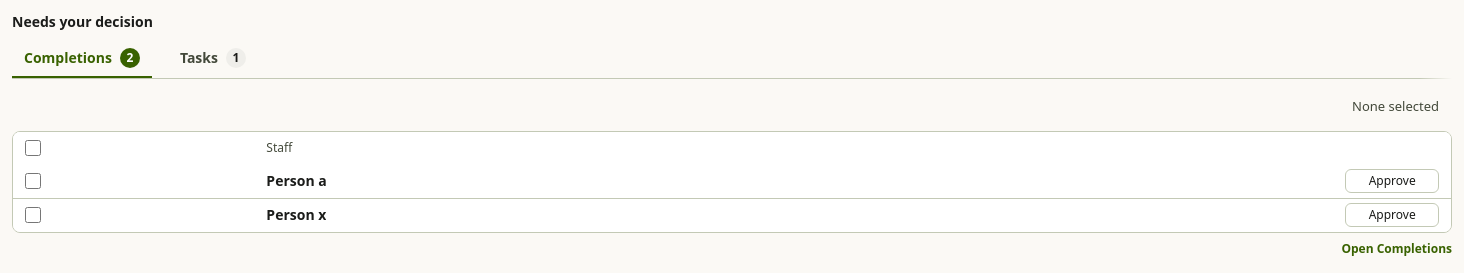
Test: NeedsYourDecision — when the open tab empties (SHAPE §3, §5) › finishes a tap left in flight by a tab switch in its hidden panel, without moving focus
The image size is (1464, 273).
Click the button with aria-label "Approve: Person a": point(1392, 181) [1345,169,1439,193]
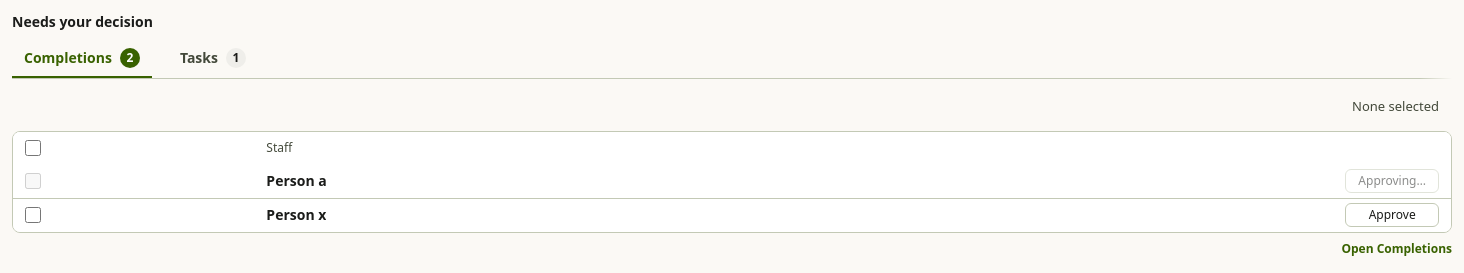
Click the tab named "Tasks (1)": point(213, 59) [168,40,258,78]
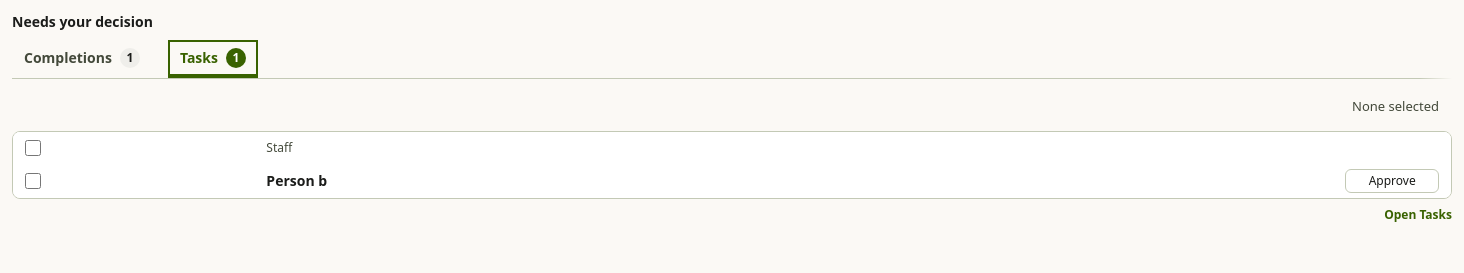
Expected: the tab named "Completions (1)" is shown, [12,40,152,78]
Expected: the text "Person b" is shown, [266,171,327,191]
